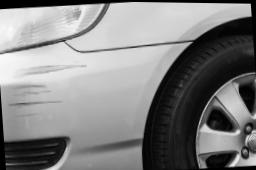Bumper: (4, 54, 95, 124)
